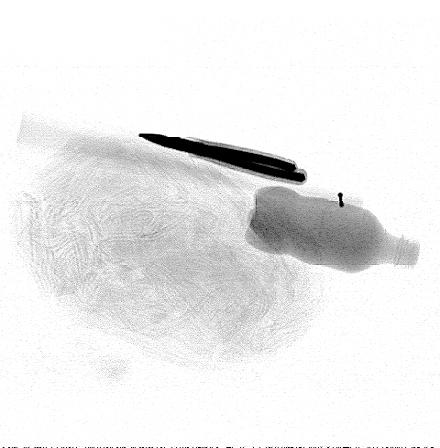Pliers: (137, 133, 308, 184)
